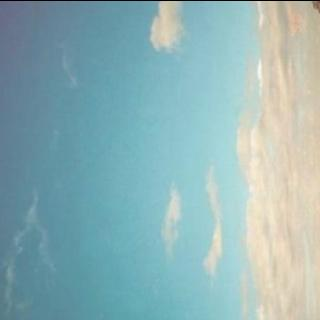Stratocumulus: (151, 0, 320, 320)
